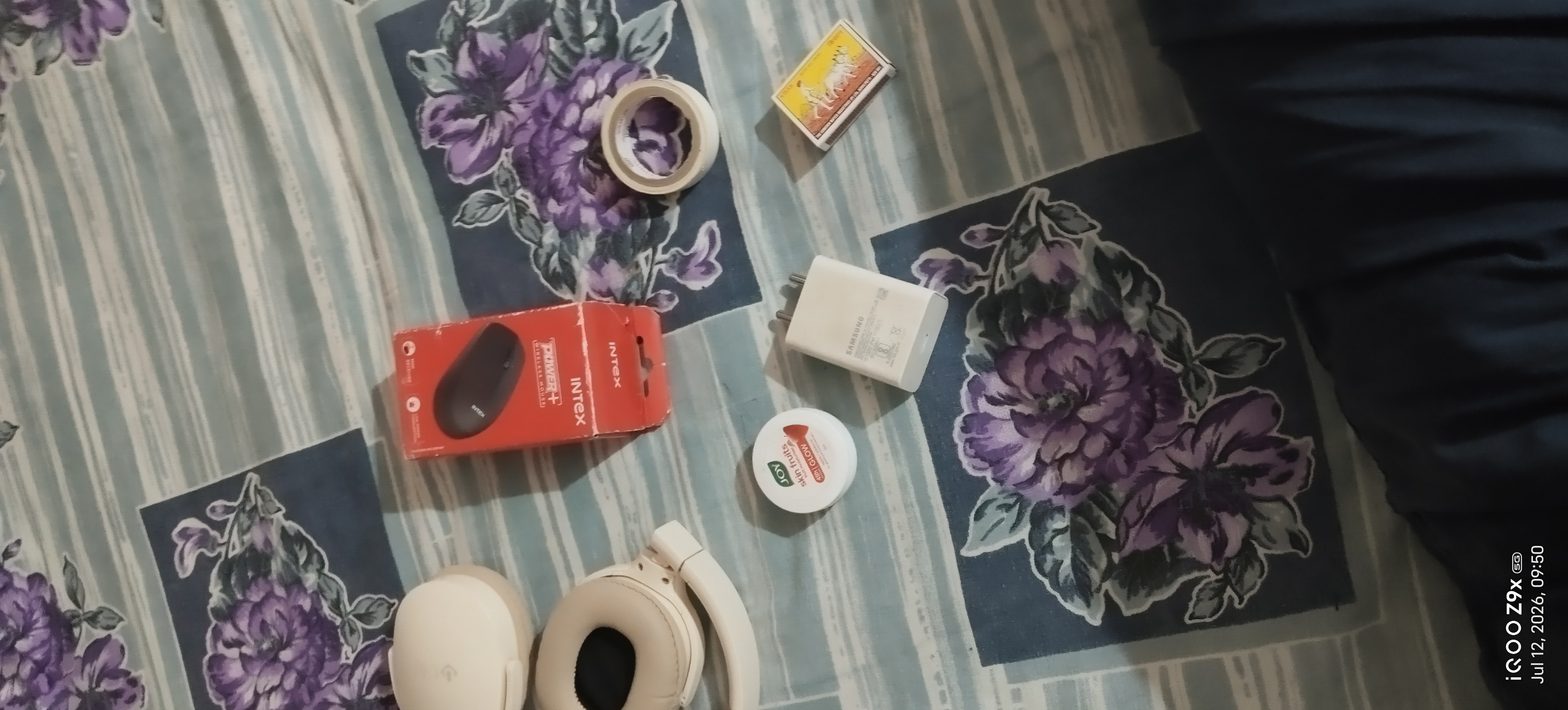charger: (762, 241, 957, 406)
matchbox: (758, 13, 903, 172)
tape_roll: (594, 77, 726, 216)
